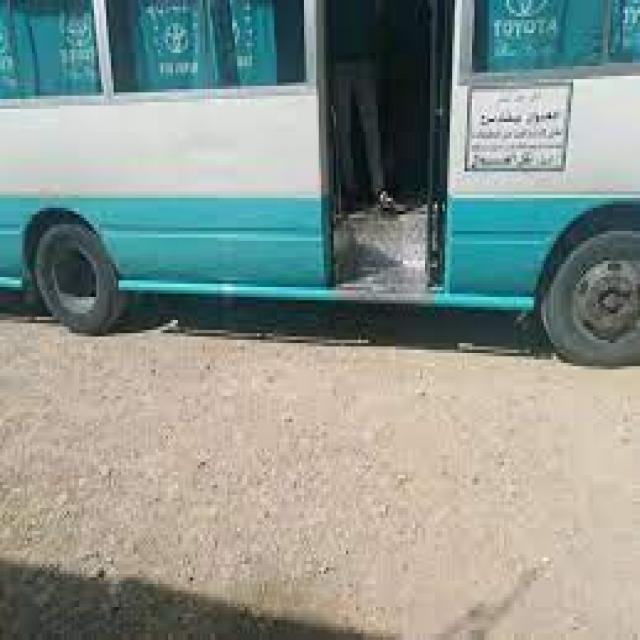bus: (17, 21, 628, 335)
